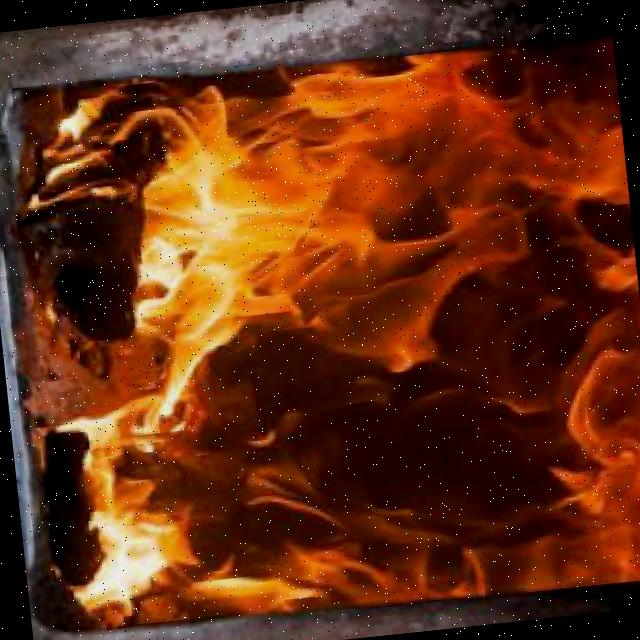fire: (20, 42, 640, 640)
